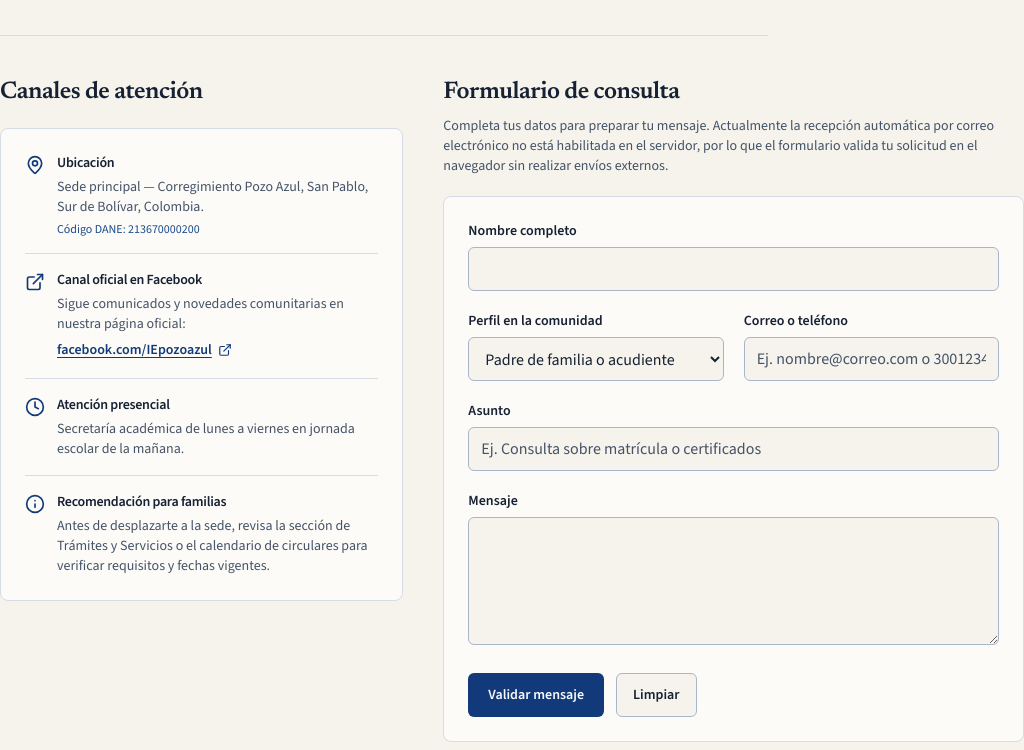
Scenario: Módulos de Fase 5 (Trámites, Plataformas y Contacto) › valida el formulario de contacto en cliente sin simular envío a servidor
The width and height of the screenshot is (1024, 750).
(page scrolled)
Click the button "Validar mensaje". click: (536,695)
box: [468,673,604,717]
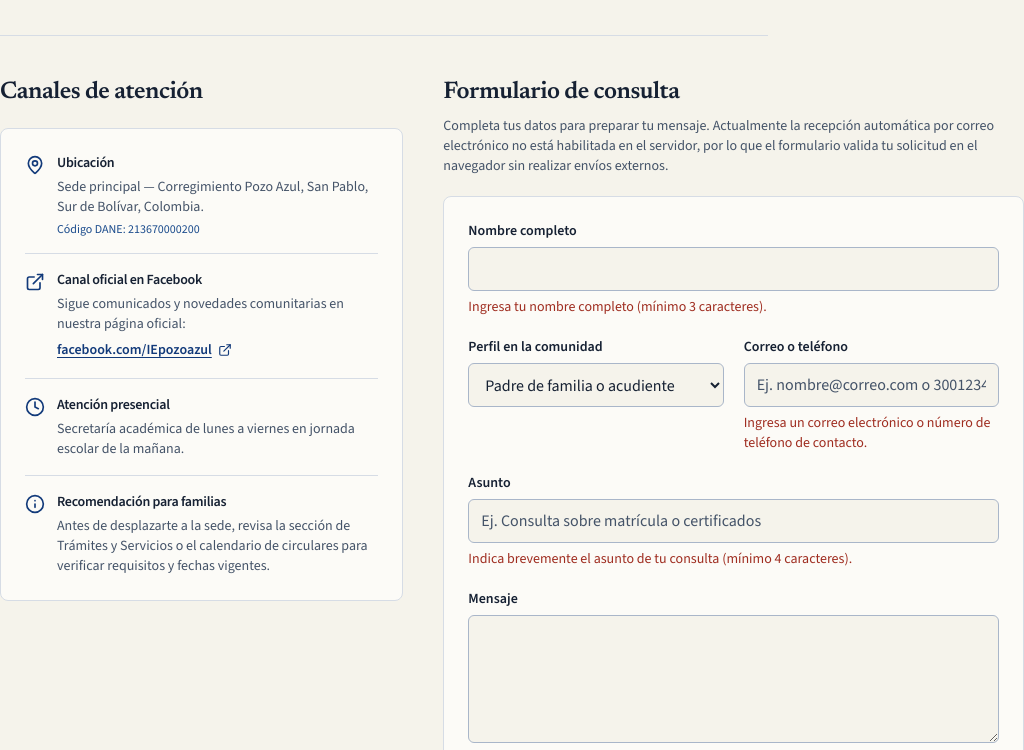
Type "Ana Rodríguez" into the field labelled "Nombre completo". click: (734,269)
box: [468,247,999,291]
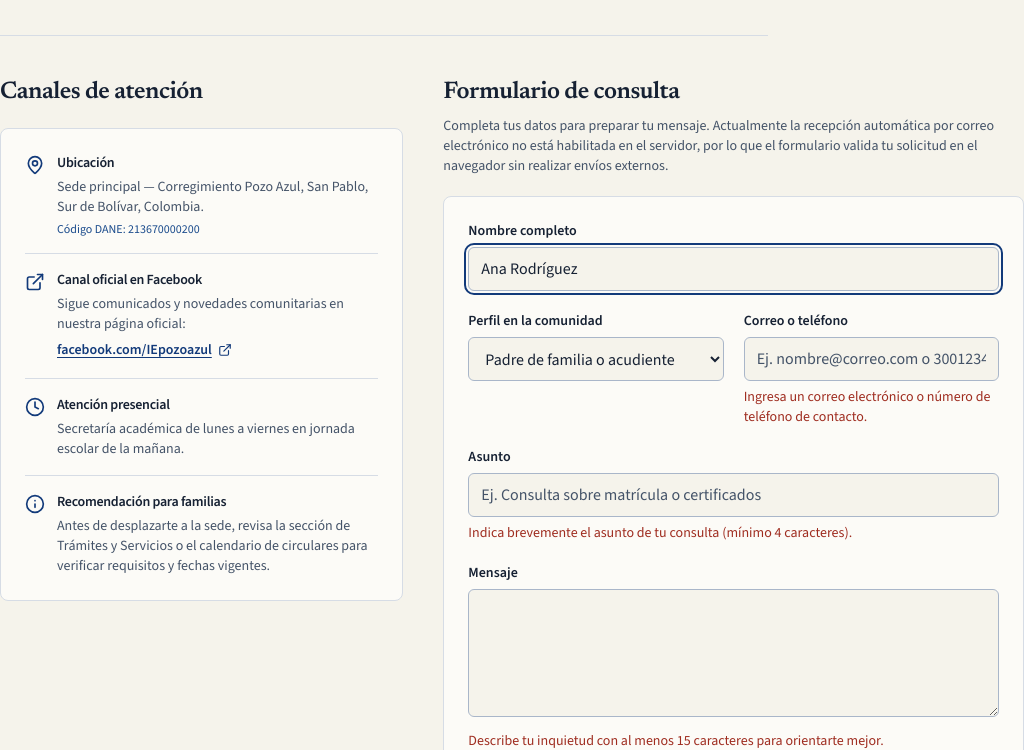
Type "3105551234" into the field labelled "Correo o teléfono". click: (871,359)
box: [744,337,999,381]
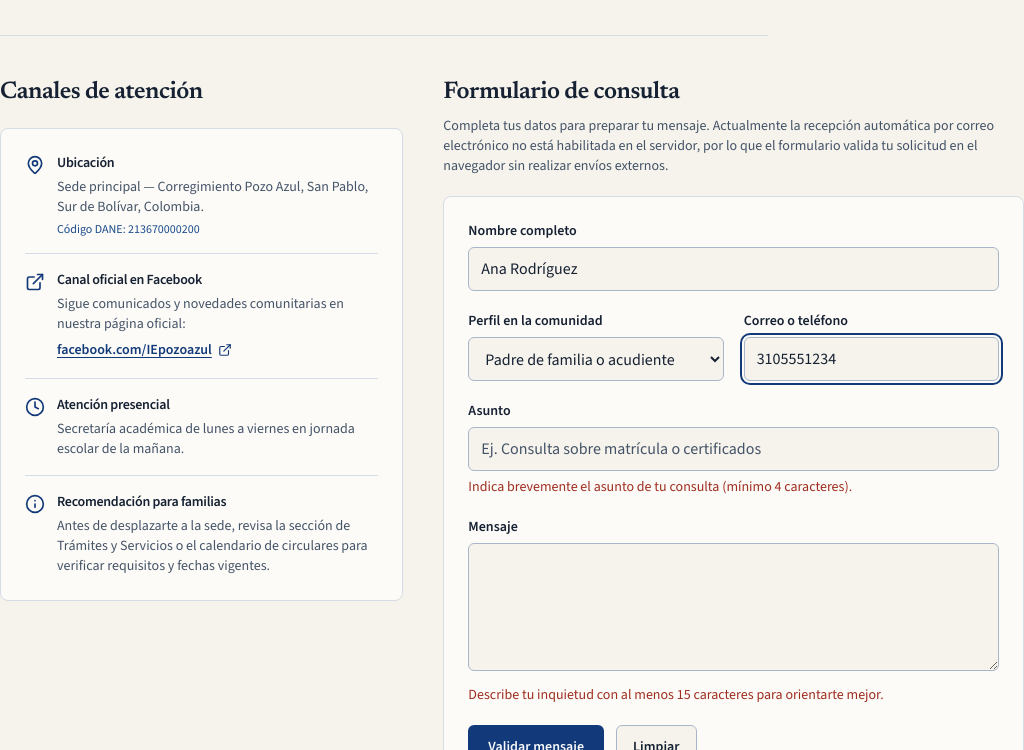
Type "Requisitos de matrícula" into the field labelled "Asunto". click: (734,449)
box: [468,427,999,471]
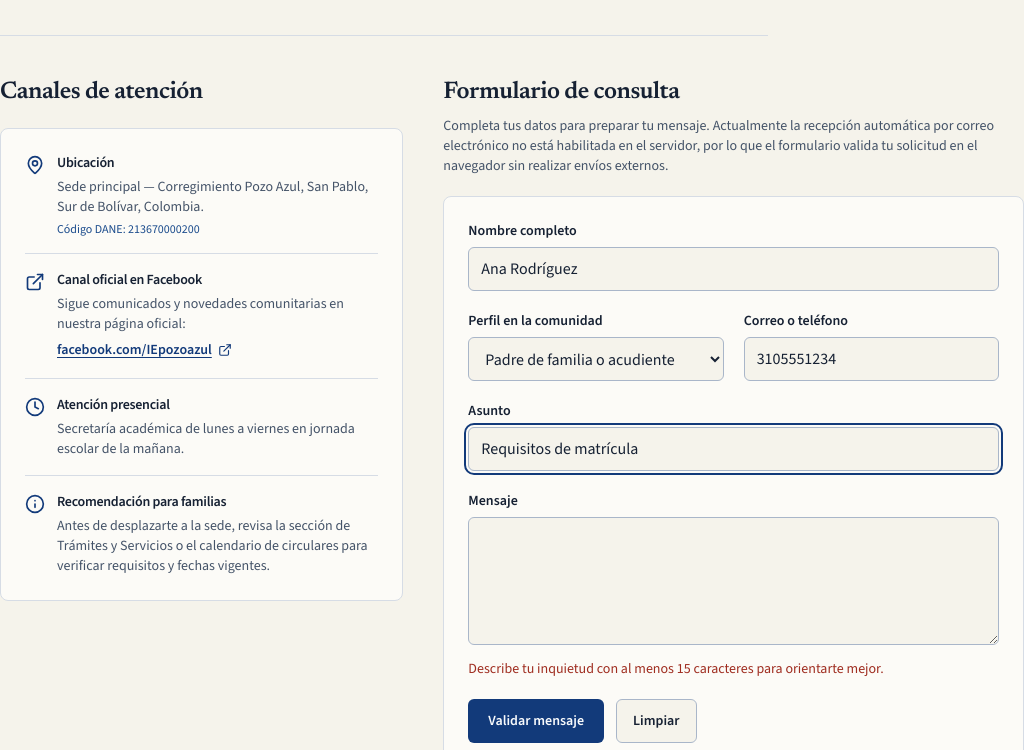
Type "Quisiera conocer los horarios de atención en secretaría académica." into the text box labelled "Mensaje". click: (734,581)
box: [468,517,999,645]
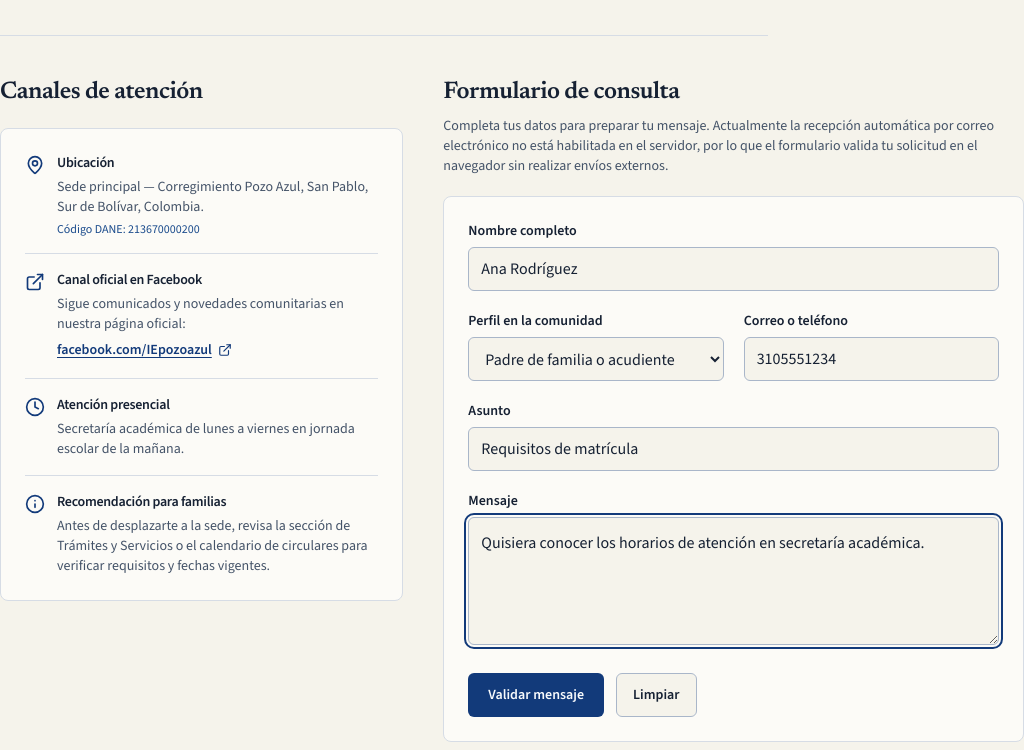
Click the button "Validar mensaje". click: (536,695)
box: [468,673,604,717]
(page scrolled)
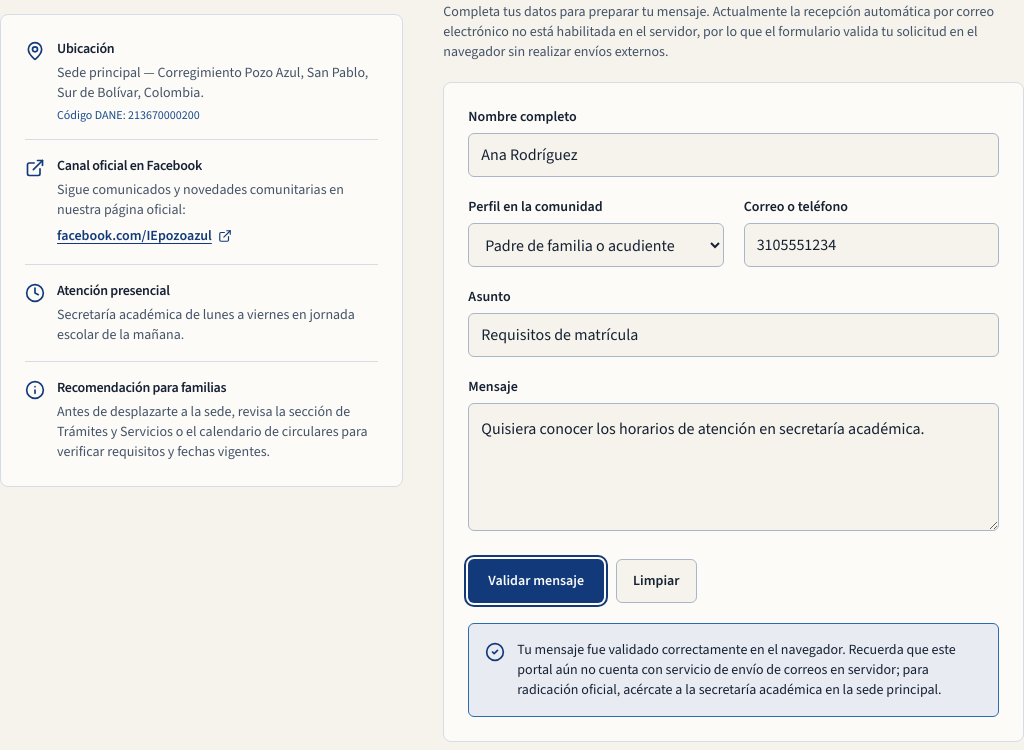
Now the message shows "validado correctamente en el navegador", box [517,640,956,699]
